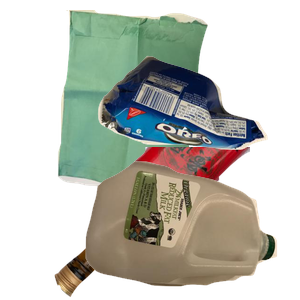glass: (52, 147, 292, 300)
paper: (55, 10, 255, 190)
plastic: (83, 159, 300, 300)
trash: (95, 53, 300, 195)
